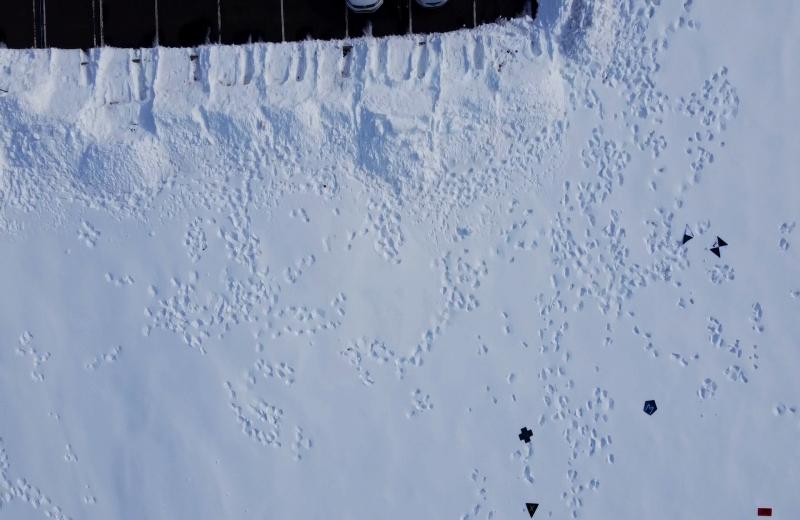Cross: (517, 426, 536, 445)
Pentagon: (642, 398, 658, 417)
Rectangle: (756, 505, 774, 520)
Triangle: (524, 500, 540, 520)
